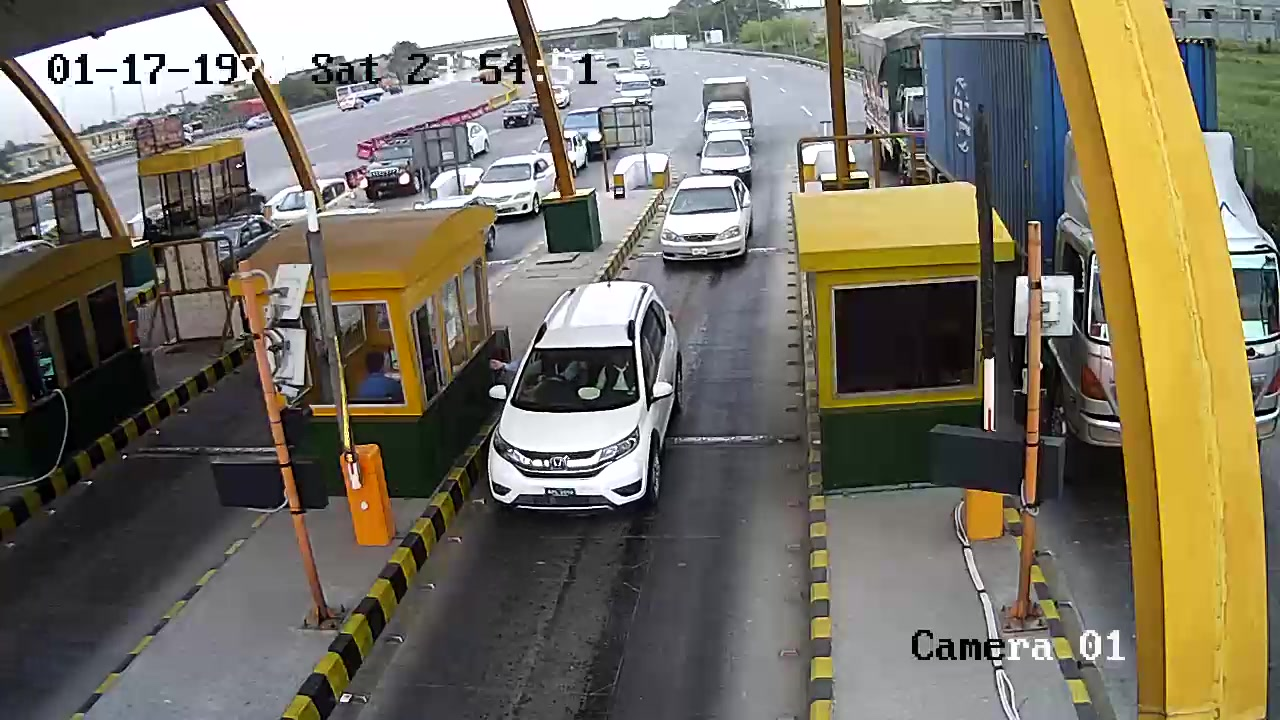F1: (492, 279, 694, 517)
